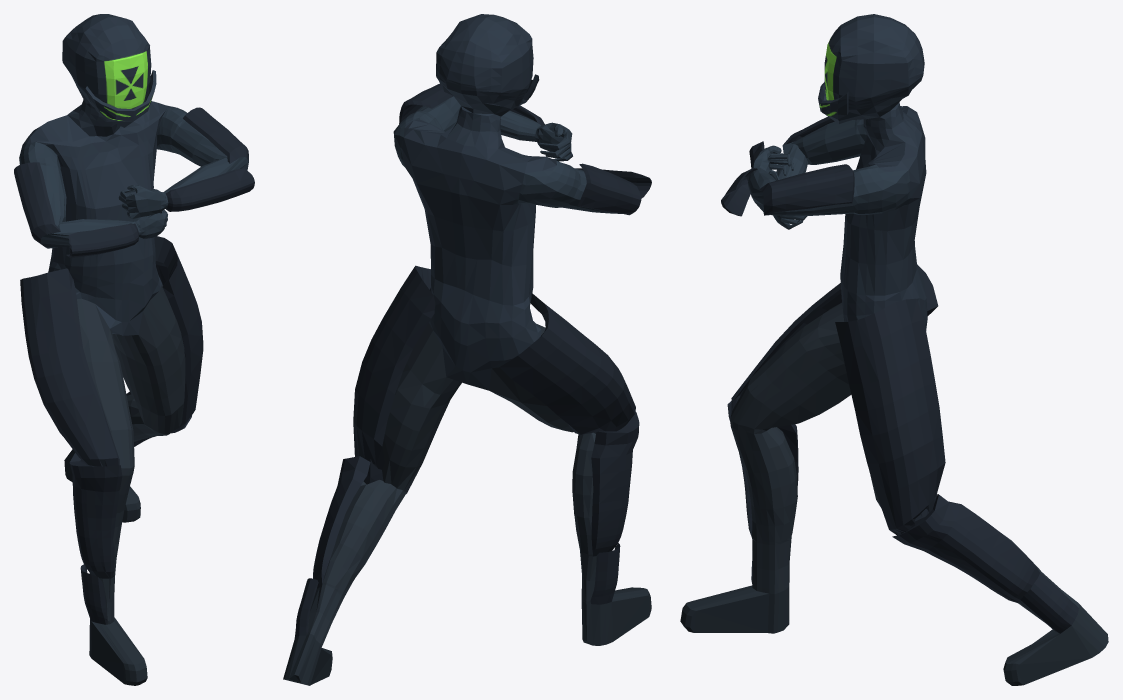
File: Bastion_WR_000005.obj
The picture shows the model from 3 angles, left to right: view 1: azimuth 30°, elevation 25°; view 2: azimuth 150°, elevation 25°; view 3: azimuth 270°, elevation 25°; orthographic projection. The views are drawn at different scales.
Parts seen in each view (by area): view 1: Cube.002; view 2: Cube.002; view 3: Cube.002.
Part boxes in pixels (x1,y1,x2,y2): Cube.002: [14, 14, 254, 685]; Cube.002: [283, 14, 651, 685]; Cube.002: [680, 14, 1108, 685].
Size of the model in its own units: 1.37 by 3.58 by 2.17.
